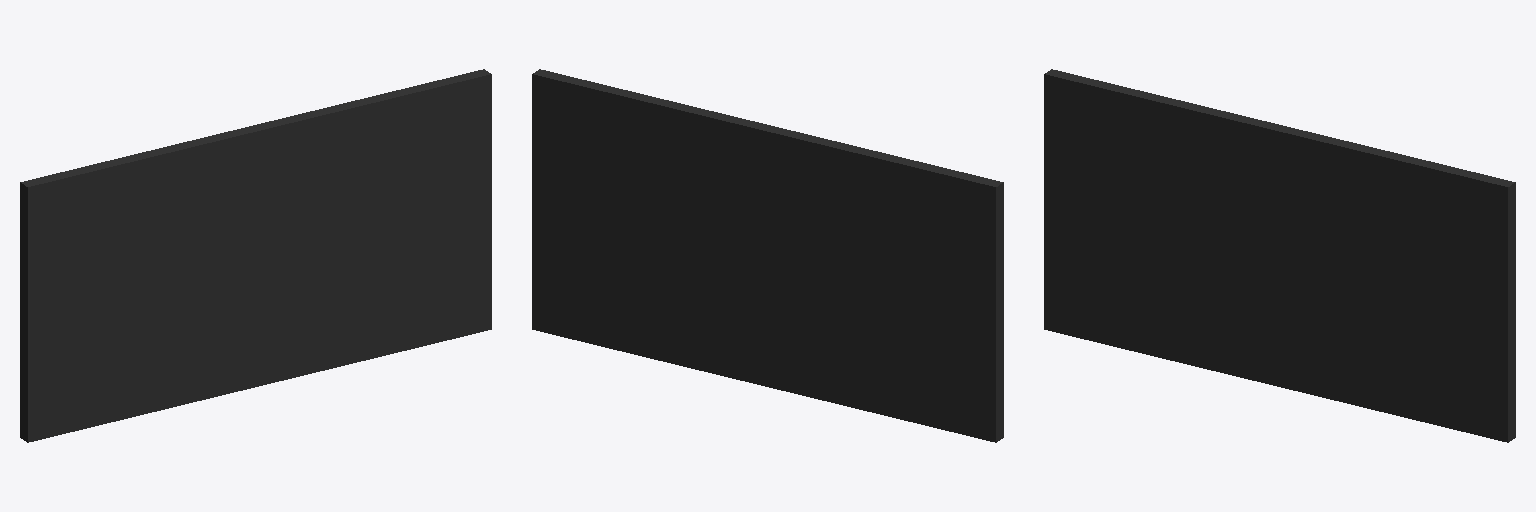
robot.urdf — wall:
<robot name="wall">
  <link name="baseLink">
   
    <inertial>
      <origin rpy="0 0 0" xyz="0 0 0" />
       <mass value="10" />
       <inertia ixx="0" ixy="0" ixz="0" iyy="0" iyz="0" izz="0" />
    </inertial>
    <visual>
      <origin rpy="0 0 0" xyz="0 0 0" />
      <geometry>
			  <box size="1.9 0.05 1" />
      </geometry>
       <material name="grey">
        <color rgba="0.24 0.24 0.24 1" />
      </material>
    </visual>
    <collision>
      <origin rpy="0 0 0" xyz="0 0 0" />
      <geometry>
	 	      <box size="1.9 0.05 1" />
      </geometry>
    </collision>
  </link>
</robot>

--- Facts derived from the render (not from the file) ---
Views: 3 orthographic renders of the robot side by side, from view 1: azimuth 30°, elevation 25°; view 2: azimuth 150°, elevation 25°; view 3: azimuth 330°, elevation 25°.
Model wall with 1 links and 0 joints (none), rooted at baseLink, posed every joint at zero.
Links seen in each view (by area): view 1: baseLink; view 2: baseLink; view 3: baseLink.
Boxes of the visible links, x1,y1,x2,y2 form: baseLink: (20, 69, 491, 442); baseLink: (532, 69, 1003, 442); baseLink: (1044, 69, 1515, 442).
Size in the robot's own frame: 1.9 by 0.05 by 1 metres.
Geometry: primitives only (box / cylinder / sphere), no mesh files.
